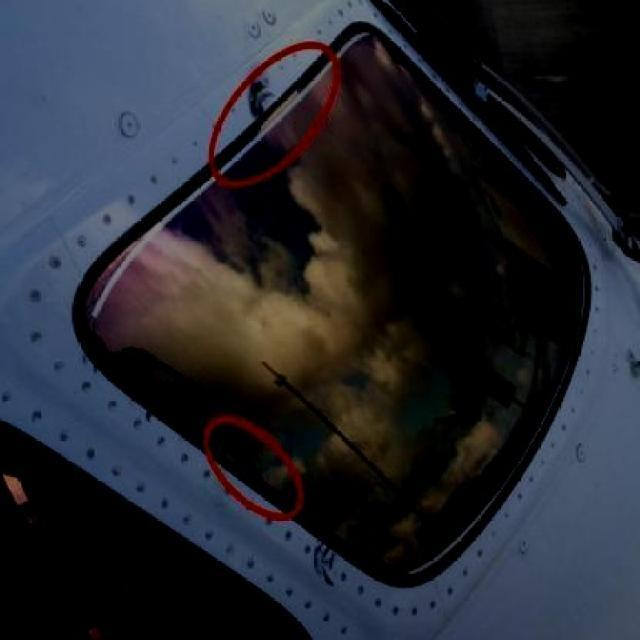crack: (313, 539, 336, 588)
